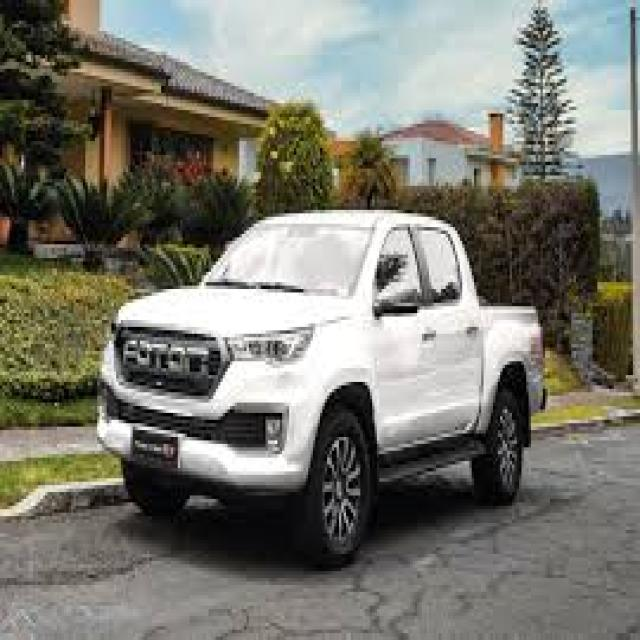CMT: (98, 210, 534, 552)
